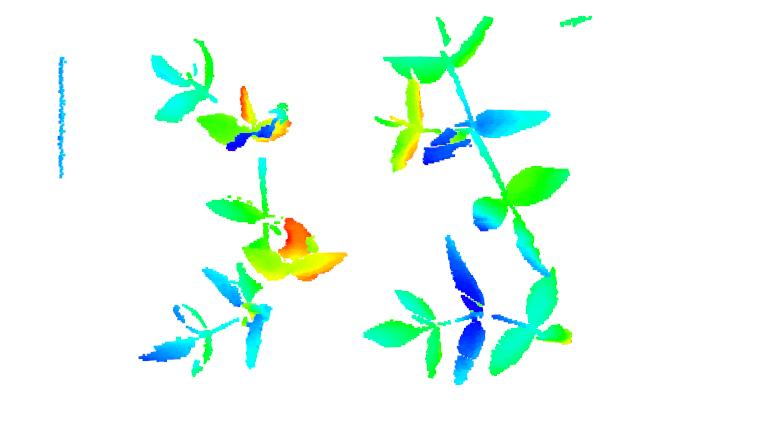mungbean: (373, 10, 569, 277), (137, 38, 295, 266), (135, 217, 347, 375), (362, 238, 573, 390)
